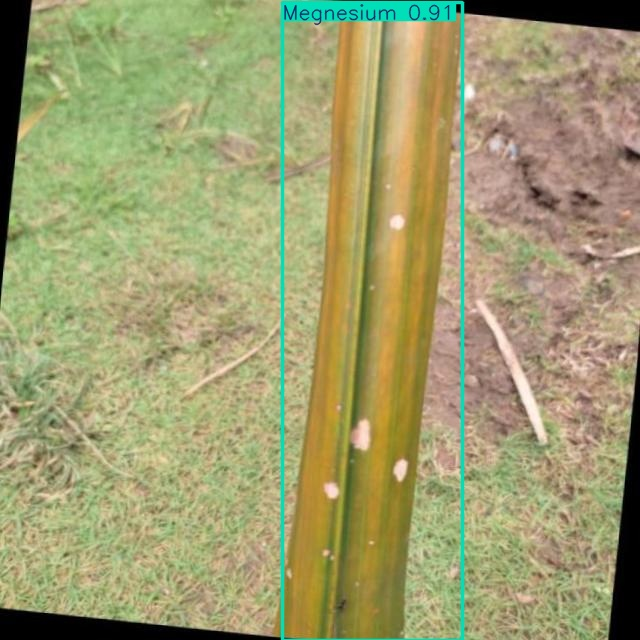Megnesium: (282, 3, 463, 640)
